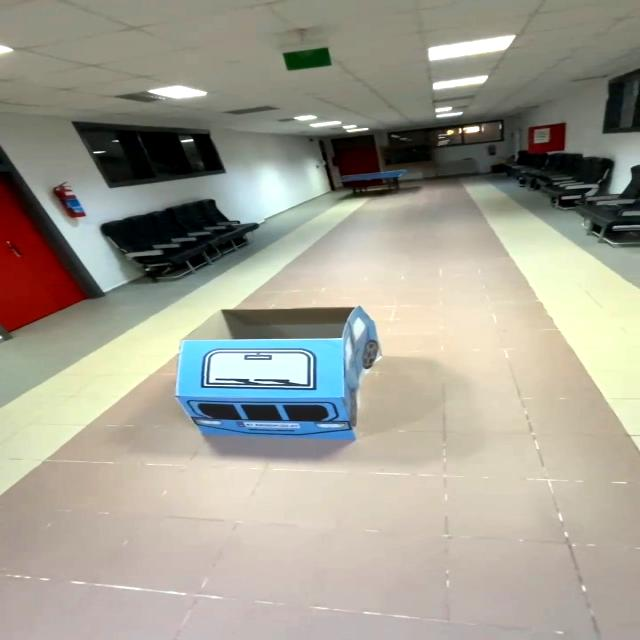blue_car: (155, 302, 421, 445)
